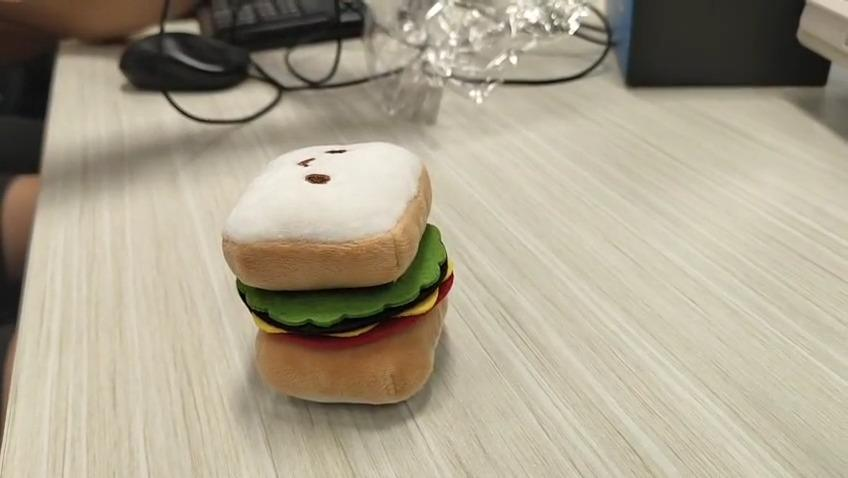objects: (221, 142, 456, 407)
